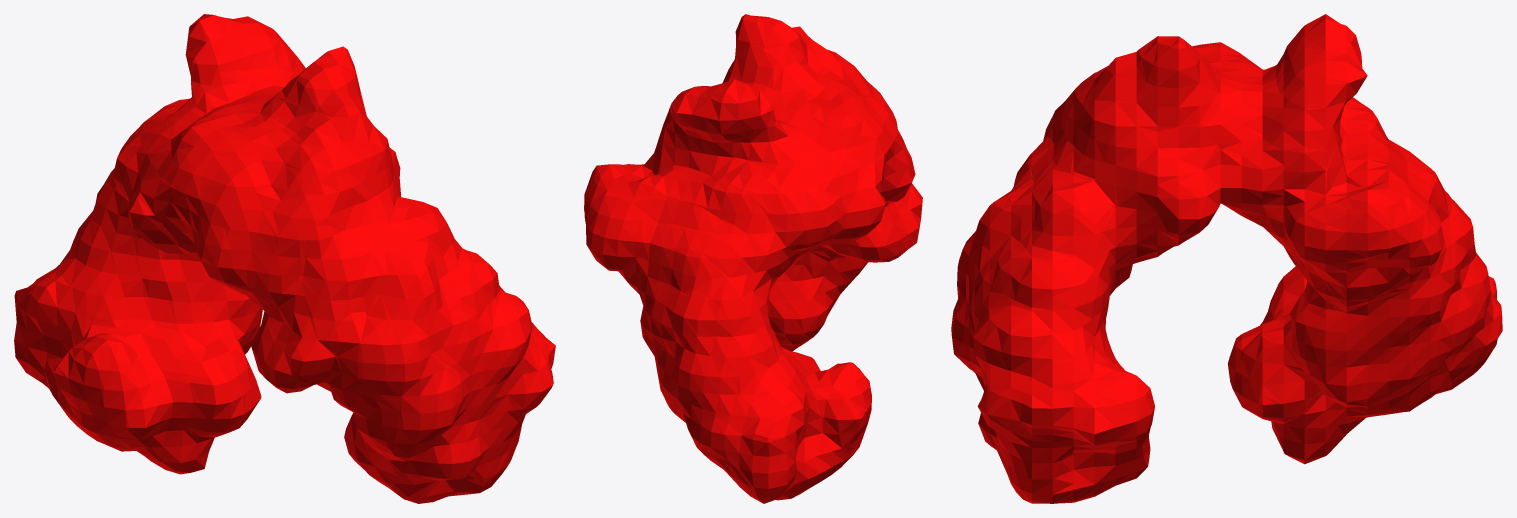
Rendered from yrfF_coarse.dae.
The picture shows the model from 3 angles, left to right: view 1: azimuth 30°, elevation 25°; view 2: azimuth 150°, elevation 25°; view 3: azimuth 270°, elevation 25°; orthographic projection. The views are drawn at different scales.
Parts seen in each view (by area): view 1: yrfF; view 2: yrfF; view 3: yrfF.
Boxes of the visible parts, box(x1,y1,x2,y2) form: yrfF: box(14, 14, 555, 503); yrfF: box(584, 14, 922, 503); yrfF: box(951, 14, 1502, 503).
Bounding box in the file's own units: 77.15 × 90.15 × 96.64.
